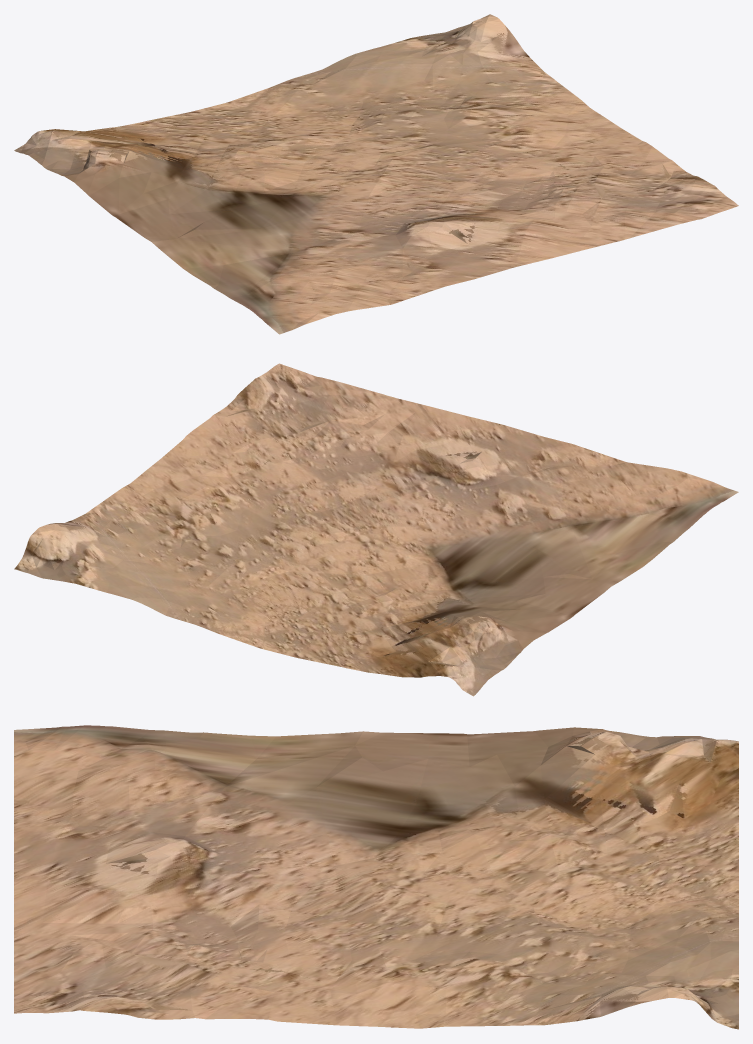
The picture shows the model from 3 angles, top to bottom: view 1: azimuth 30°, elevation 25°; view 2: azimuth 150°, elevation 25°; view 3: azimuth 270°, elevation 25°; orthographic projection. The views are drawn at different scales.
Bounding box in the file's own units: 1.04 × 0.0932 × 1.04.
Materials: 2 (2 with a texture image).
